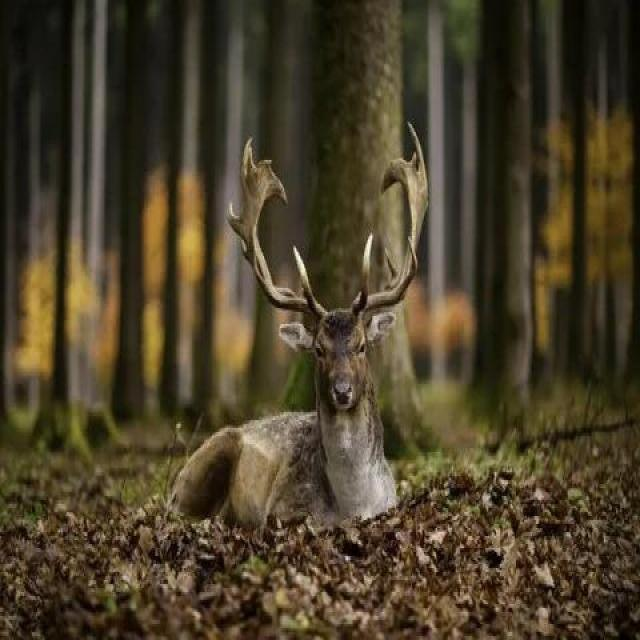deer: (195, 133, 466, 606)
